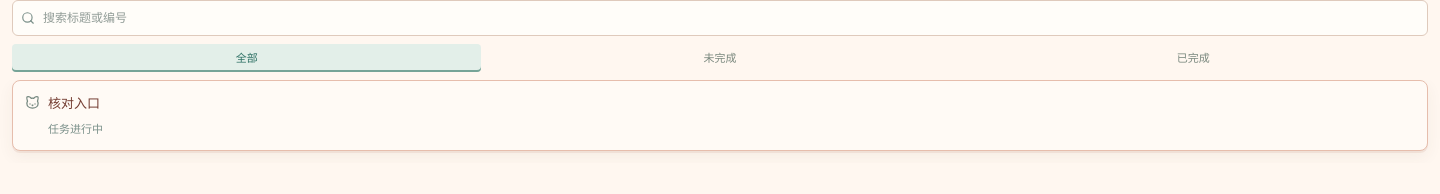
消息数量 0 不显示为条数、进度或完成状态
Expected: the button "核对入口 任务进行中" is shown, [12,80,1428,150]
Click the button "未完成": (720, 58) [485,44,955,72]
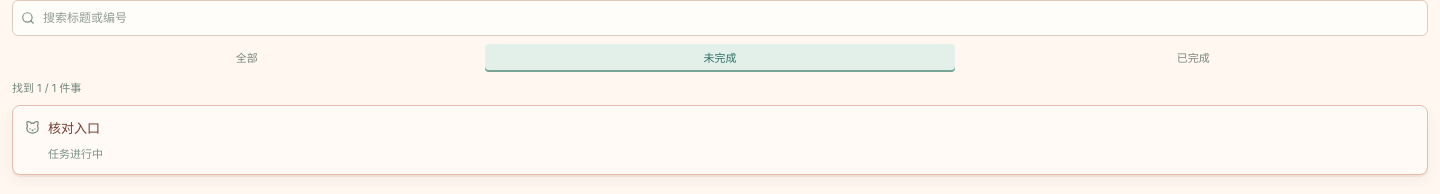
Expected: the button "核对入口 任务进行中" is shown, [12,104,1428,175]
Click the button "已完成": (1193, 58) [959,44,1428,72]
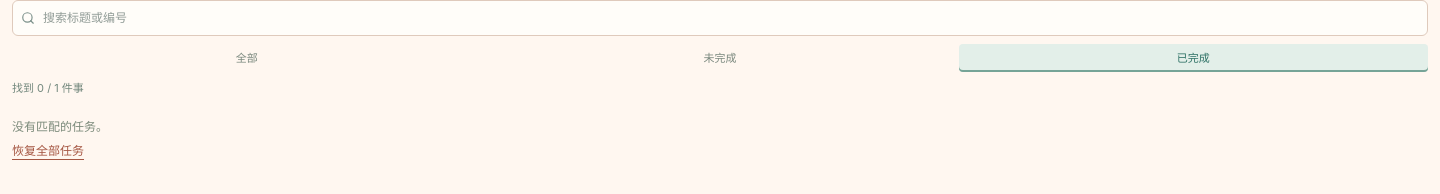
Result: the button "核对入口 任务进行中" is gone
Result: the text "没有匹配的任务。" is shown at [12,118,108,134]
Result: the button "恢复全部任务" is shown at [12,140,84,160]
